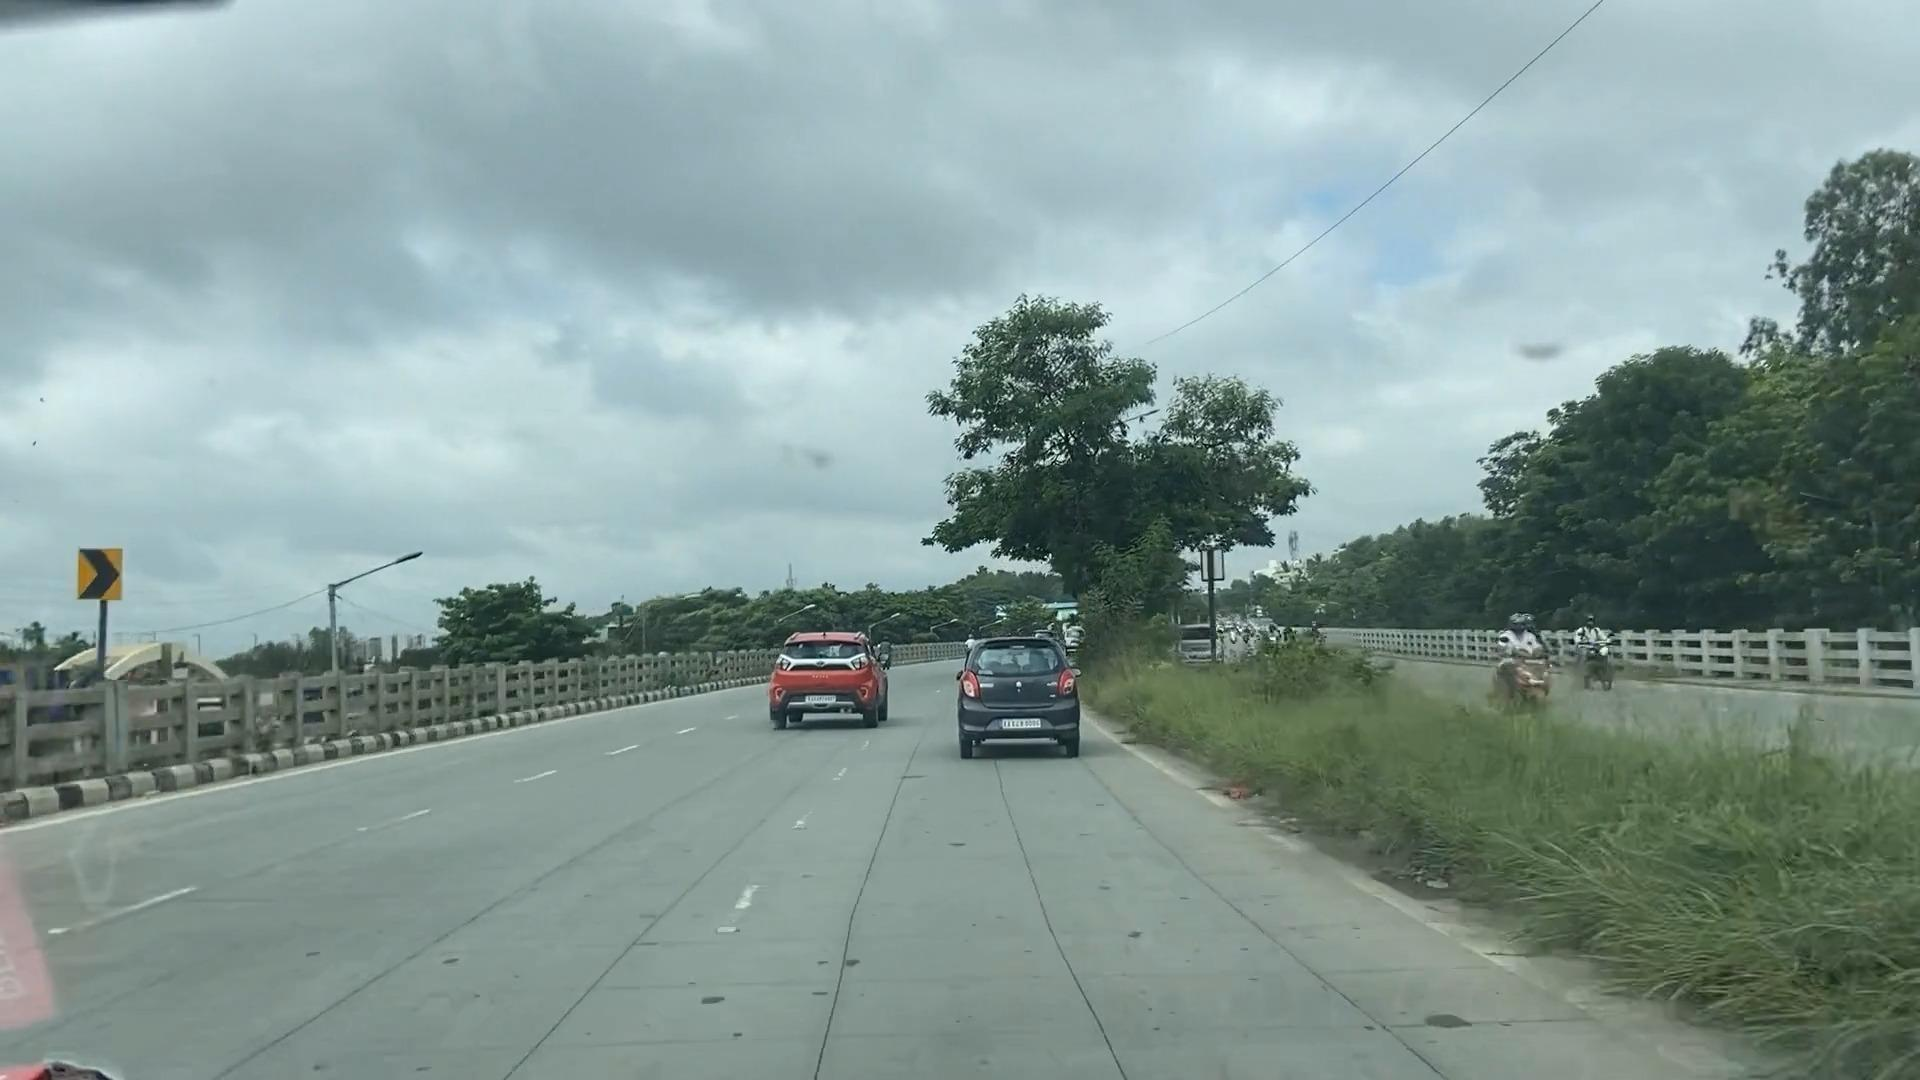LMV: (960, 642, 1060, 737), (782, 640, 889, 723)
